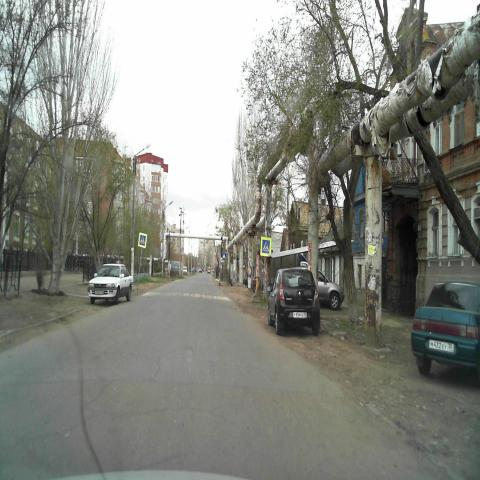5_19_1: (260, 236, 272, 258), (138, 233, 146, 247)
